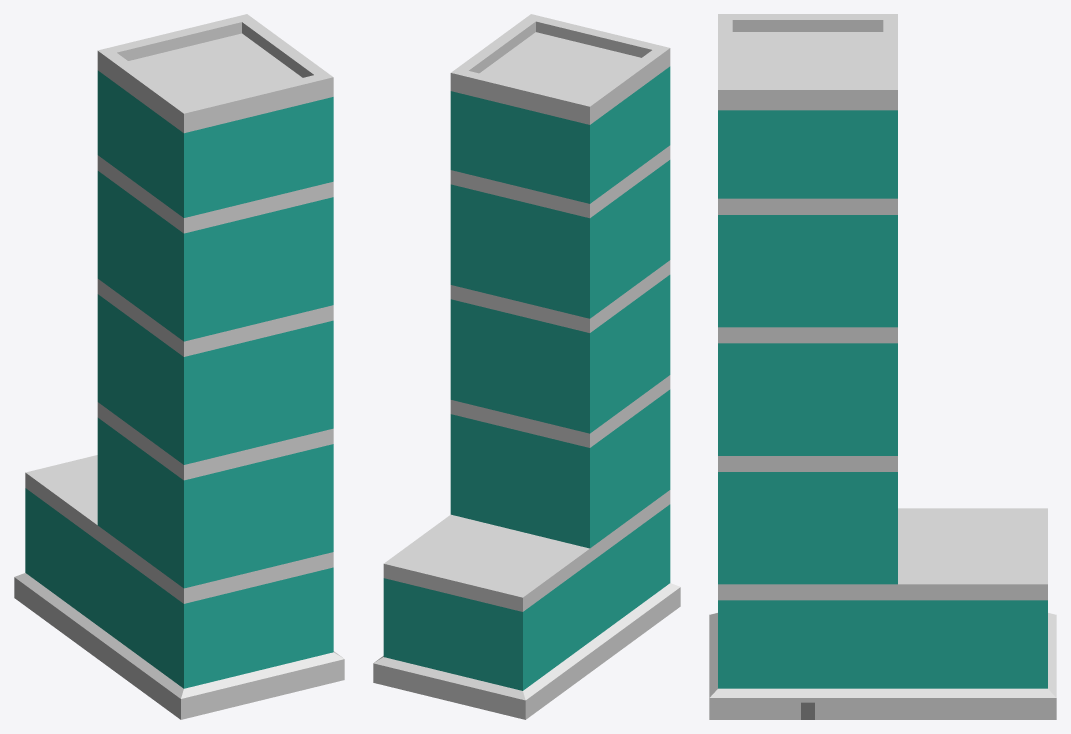
The model's file is Skyscraper2.fbx.
3 views of the same model, side by side, from view 1: azimuth 30°, elevation 25°; view 2: azimuth 150°, elevation 25°; view 3: azimuth 270°, elevation 25° (orthographic). The views are drawn at different scales.
Visible parts, largest first — view 1: Skyscraper2; view 2: Skyscraper2; view 3: Skyscraper2.
Boxes of the visible parts, <box> form: Skyscraper2: <box>14,14,344,719</box>; Skyscraper2: <box>373,14,680,719</box>; Skyscraper2: <box>709,14,1056,719</box>.
Bounding box in the file's own units: 219 × 768 × 386.
